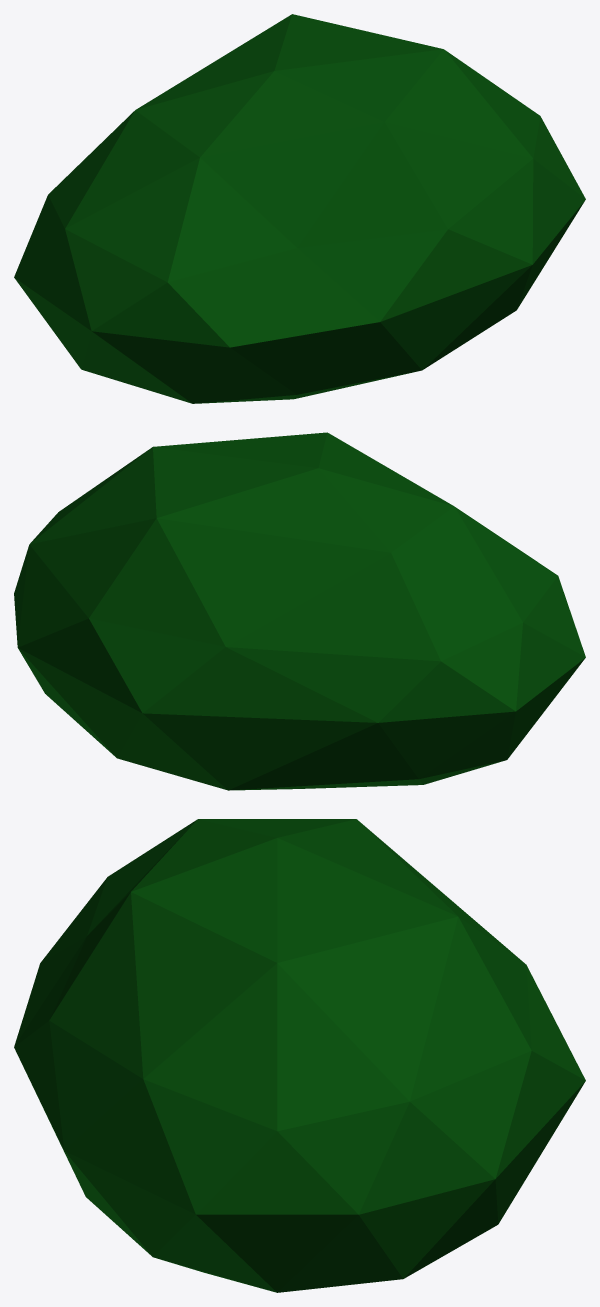
The model's file is bush4.fbx.
3 renders of one model, top to bottom at view 1: azimuth 30°, elevation 25°; view 2: azimuth 150°, elevation 25°; view 3: azimuth 270°, elevation 25°, orthographic. The views are drawn at different scales.
Visible parts, largest first — view 1: Cube; view 2: Cube; view 3: Cube.
Part boxes in pixels (x1,y1,x2,y2): Cube: (14, 14, 585, 403); Cube: (14, 432, 585, 790); Cube: (14, 819, 585, 1292).
Size of the model in its own units: 357 by 208 by 283.
